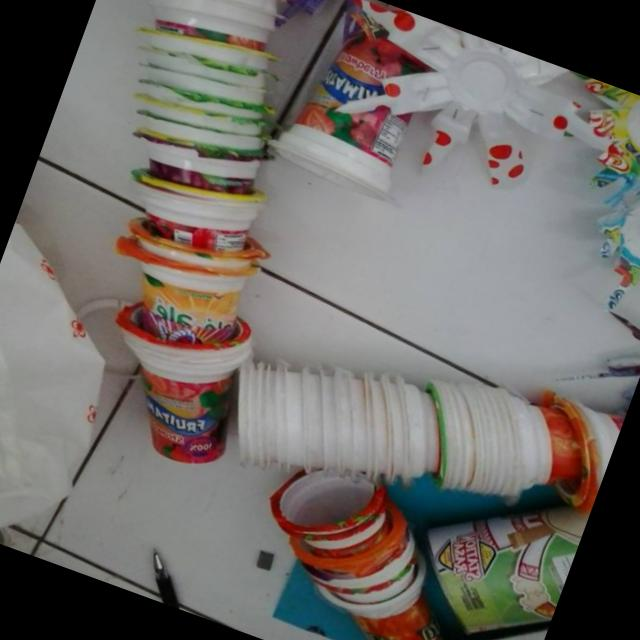GelasPlastik: (0, 0, 384, 479), (222, 446, 519, 640)
